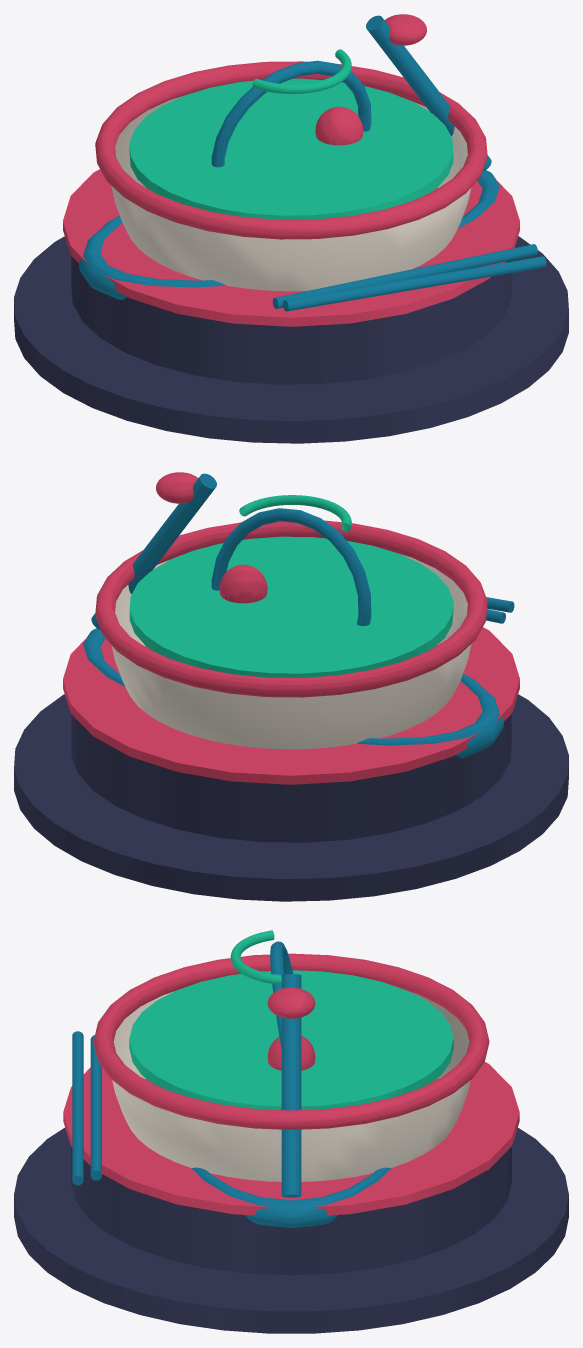
Rendered from 0339_揭秘食物图鉴_文思豆腐.glb.
The picture shows the model from 3 angles, top to bottom: view 1: azimuth 30°, elevation 25°; view 2: azimuth 150°, elevation 25°; view 3: azimuth 270°, elevation 25°; orthographic projection.
Visible parts, largest first — view 1: card_0339; view 2: card_0339; view 3: card_0339.
Boxes of the visible parts, x1,y1,x2,y2 form: card_0339: [14, 14, 568, 443]; card_0339: [14, 472, 568, 901]; card_0339: [14, 930, 568, 1333].
Size of the model in its own units: 1.74 by 1 by 1.75.
